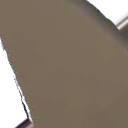crackTip: (1, 1, 128, 124)
